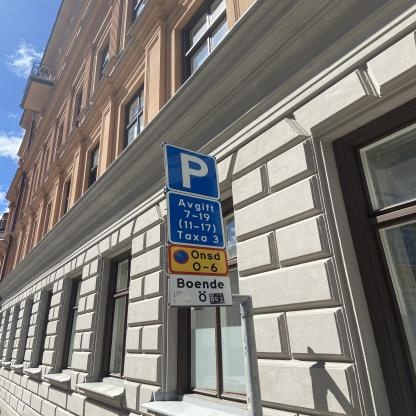P-skylt: (163, 141, 222, 201)
